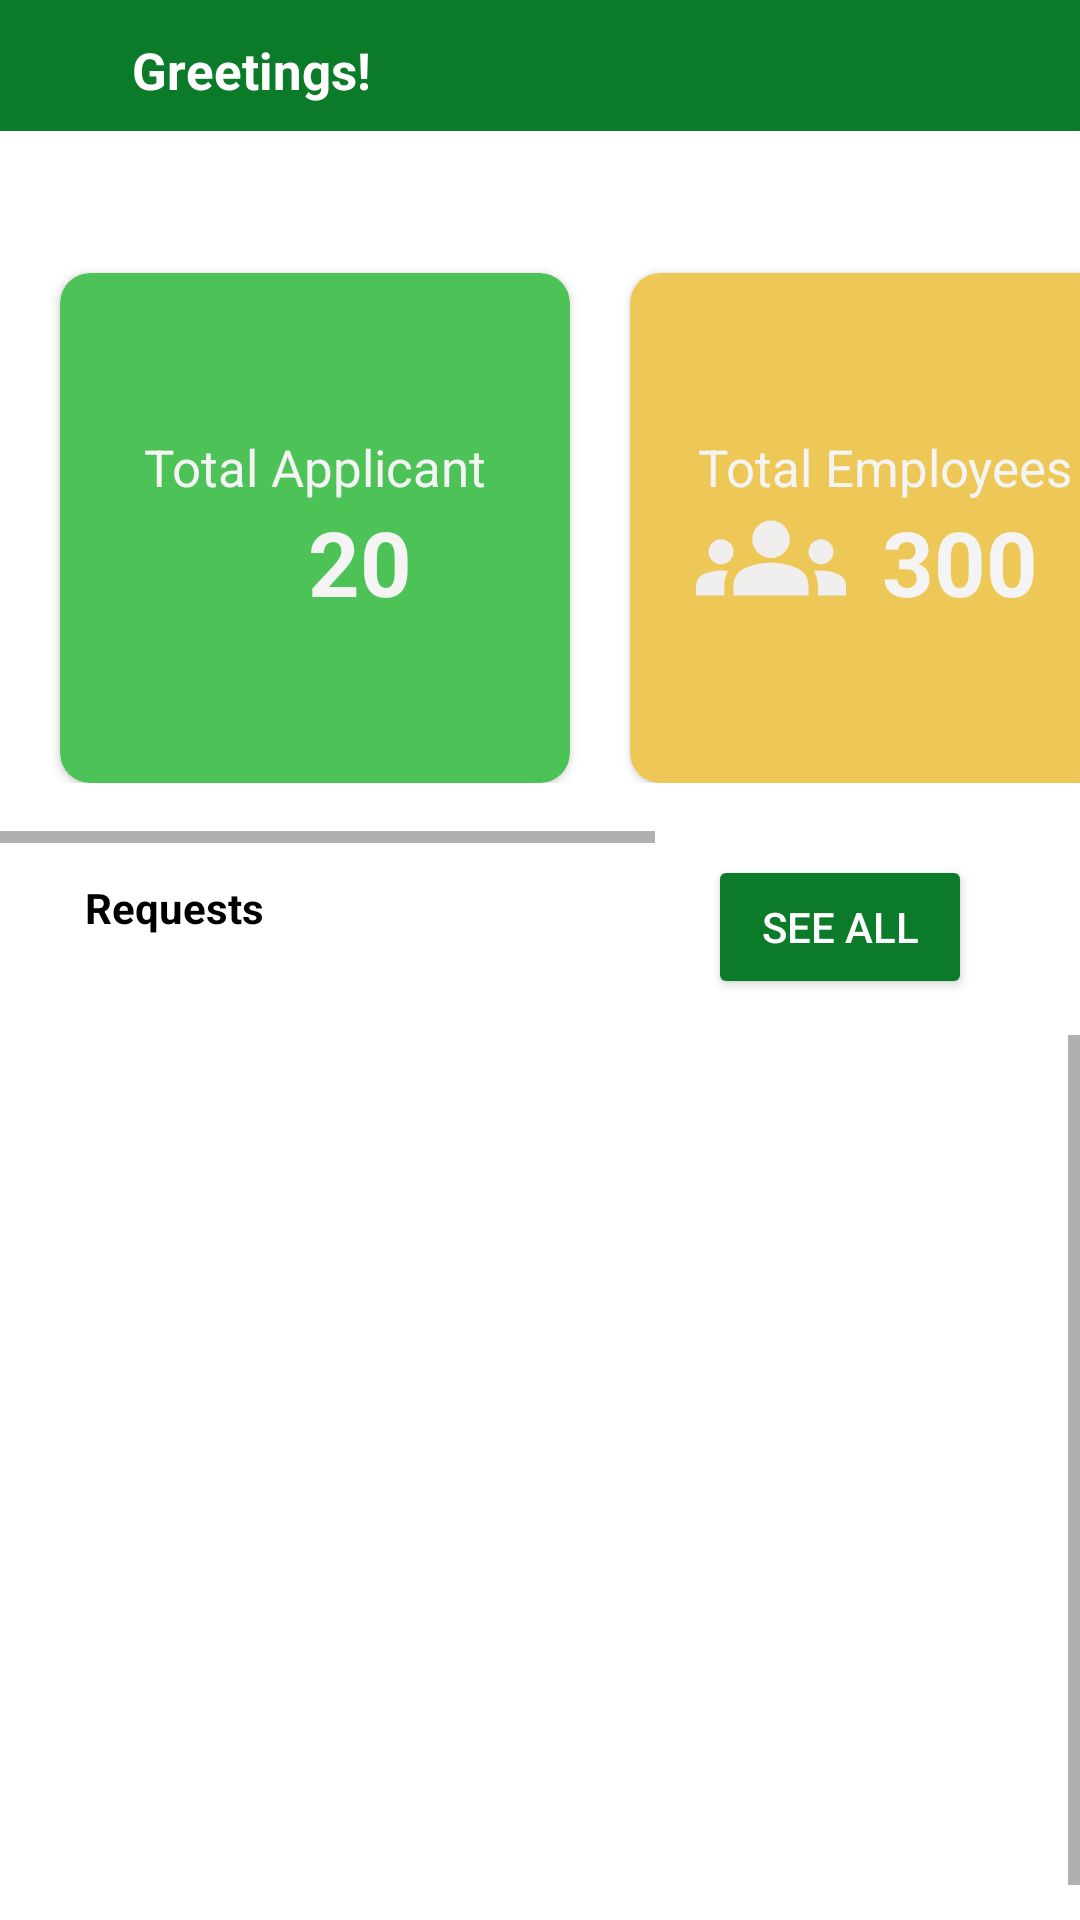

Point at icon controls on the screen. Image size 1080*1920, points as (x=x, y=y).
groups: (x=771, y=558)
